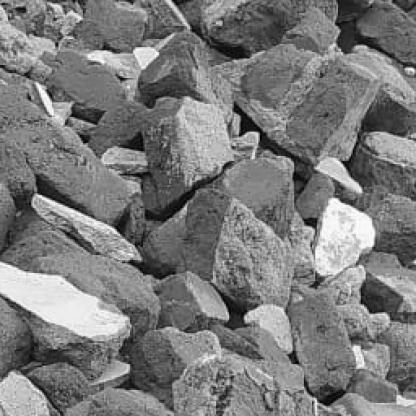cementitious_debris: (3, 1, 413, 413)
